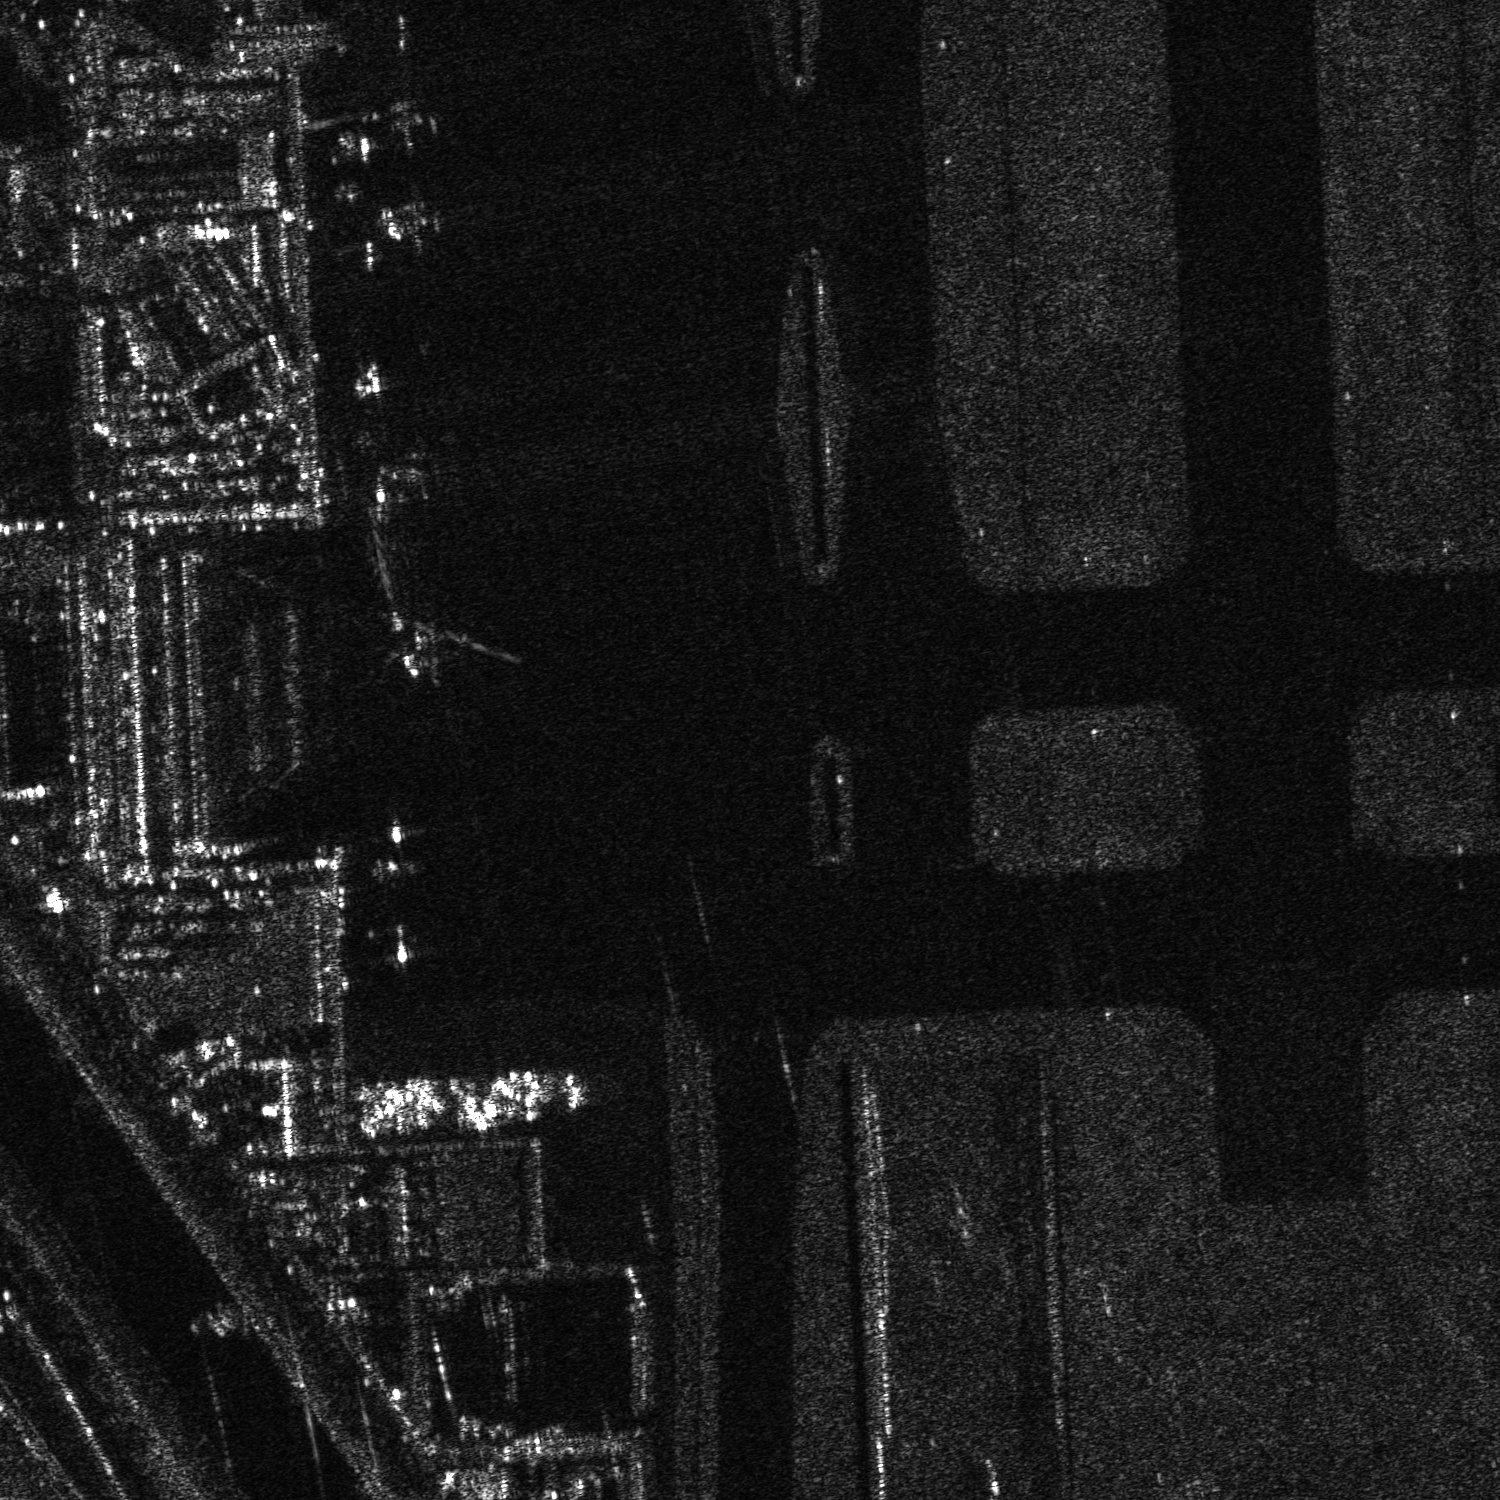A220: (385, 598, 468, 694), (352, 93, 448, 159), (372, 181, 451, 260)
other: (444, 1060, 514, 1141), (496, 1054, 563, 1125), (380, 1074, 438, 1140)
